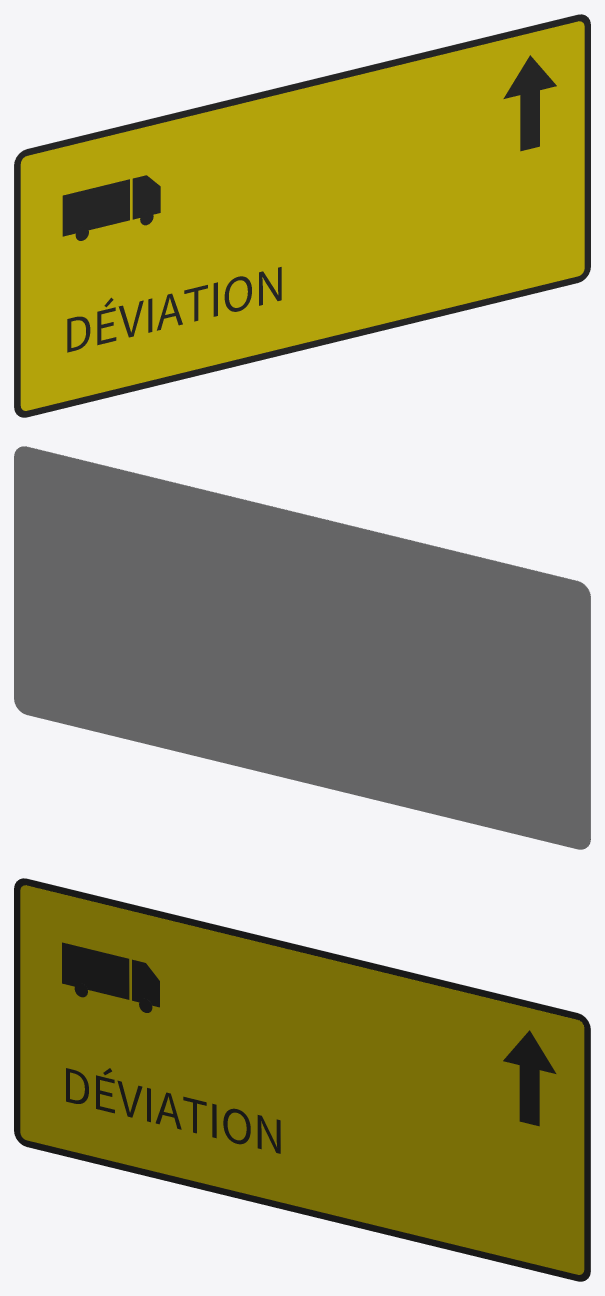
3 views of the same model, one above another, from view 1: azimuth 30°, elevation 25°; view 2: azimuth 150°, elevation 25°; view 3: azimuth 330°, elevation 25° (orthographic).
Visible parts, largest first — view 1: KD42b_fond01, KD42b_cadre00, KD42b_txt07, KD42b_caisse03, KD42b_fl02, KD42b_cabine04, KD42b_dos; view 2: KD42b_dos; view 3: KD42b_fond01, KD42b_cadre00, KD42b_caisse03, KD42b_txt07, KD42b_fl02, KD42b_cabine04, KD42b_dos.
Part boxes in pixels (box(x1,y1,x2,y2)): KD42b_fond01: box(20, 21, 584, 410); KD42b_cadre00: box(14, 14, 590, 417); KD42b_txt07: box(67, 267, 281, 352); KD42b_caisse03: box(62, 179, 129, 236); KD42b_fl02: box(503, 55, 556, 151); KD42b_cabine04: box(132, 175, 160, 219); KD42b_dos: box(14, 14, 580, 409); KD42b_dos: box(14, 446, 590, 849); KD42b_fond01: box(20, 885, 584, 1274); KD42b_cadre00: box(14, 878, 590, 1281); KD42b_caisse03: box(62, 942, 129, 999); KD42b_txt07: box(66, 1068, 280, 1153); KD42b_fl02: box(503, 1030, 556, 1126); KD42b_cabine04: box(132, 959, 159, 1007); KD42b_dos: box(24, 878, 590, 1273).
Size of the model in its own units: 1.8 by 0.8 by 0.0045.
